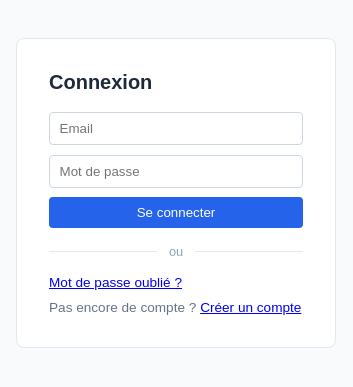
Test: LoginPage › affiche le message du serveur après trop de tentatives (429)
The width and height of the screenshot is (353, 387).
Type "admin@example.com" into the field labelled "Email" at (176, 128), box [49, 112, 303, 145]
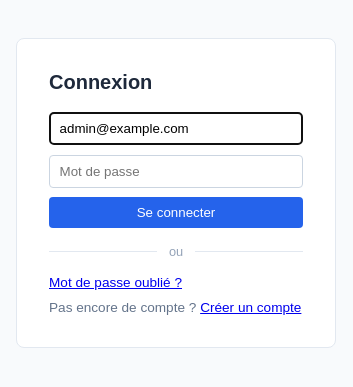
Type "faux" into the password field labelled "Mot de passe" at (176, 171), box [49, 154, 303, 188]
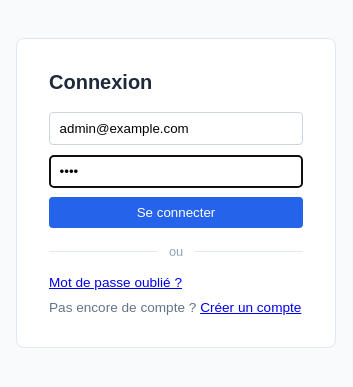
Click the button "Se connecter" at (176, 213), box [49, 197, 303, 228]
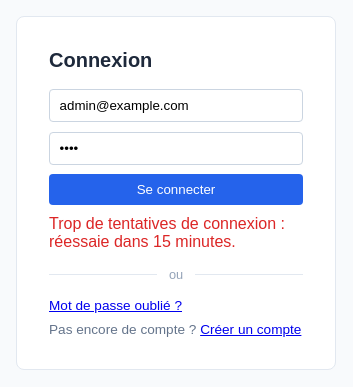
expect the text "Trop de tentatives de connexion : réessaie dans 15 minutes." is shown: met, box [49, 215, 303, 251]
